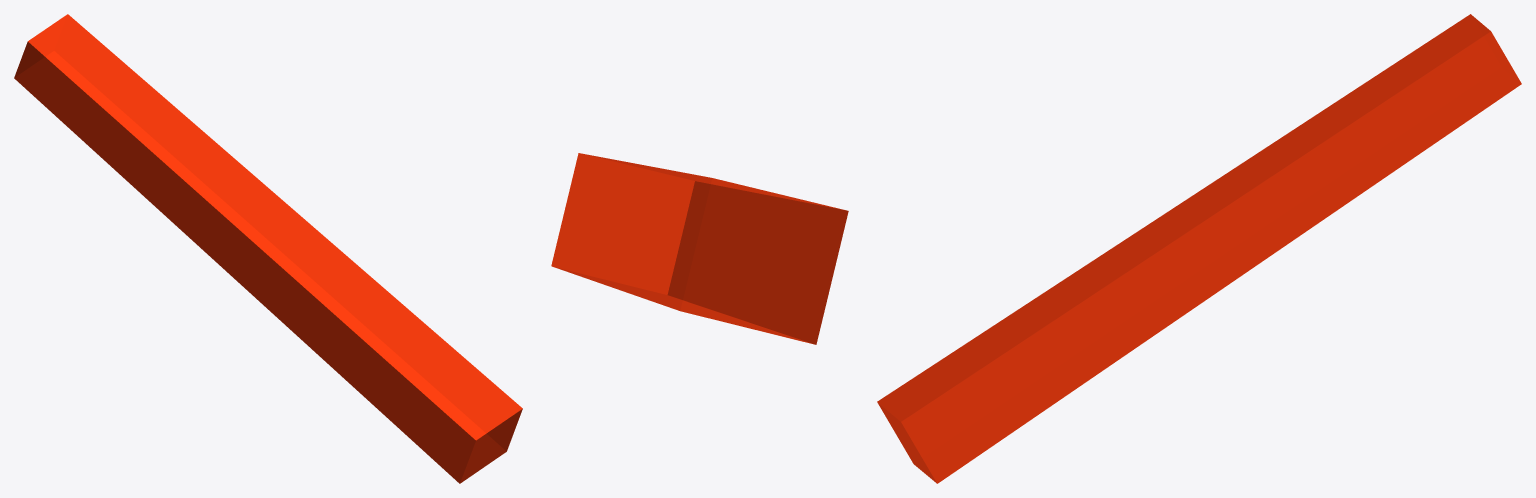
The model's file is Event_421556567_EBrechit_9.fbx.
The picture shows the model from 3 angles, left to right: view 1: azimuth 30°, elevation 25°; view 2: azimuth 150°, elevation 25°; view 3: azimuth 270°, elevation 25°; orthographic projection. The views are drawn at different scales.
Parts seen in each view (by area): view 1: Model; view 2: Model; view 3: Model.
Part boxes in pixels (x1,y1,x2,y2): Model: (14,14,522,483); Model: (551,153,848,344); Model: (877,14,1521,483).
Bounding box in the file's own units: 0.2666 × 0.3312 × 0.5415.
